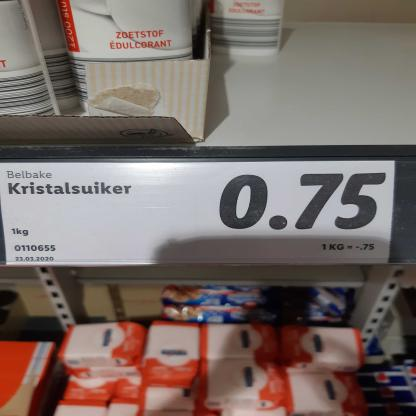prtg: (1, 161, 397, 266)
